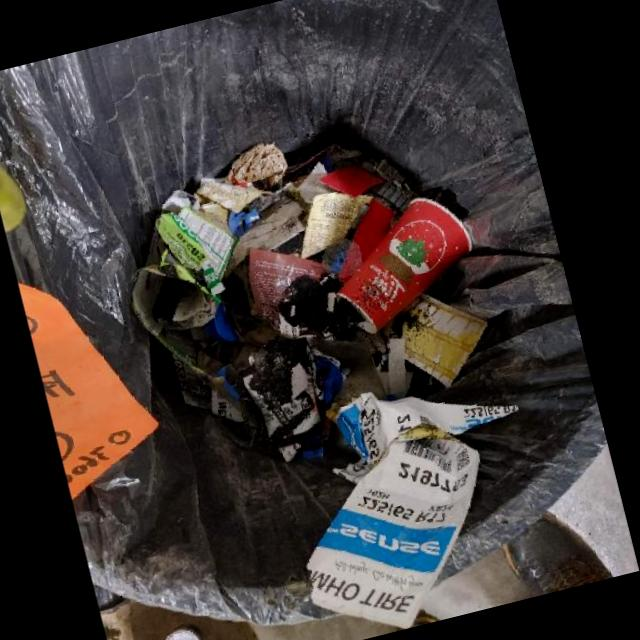carton: (131, 176, 274, 374), (337, 196, 472, 330)
giay: (306, 390, 519, 628), (17, 281, 158, 499), (300, 191, 372, 258), (223, 141, 288, 191), (317, 164, 385, 197)
